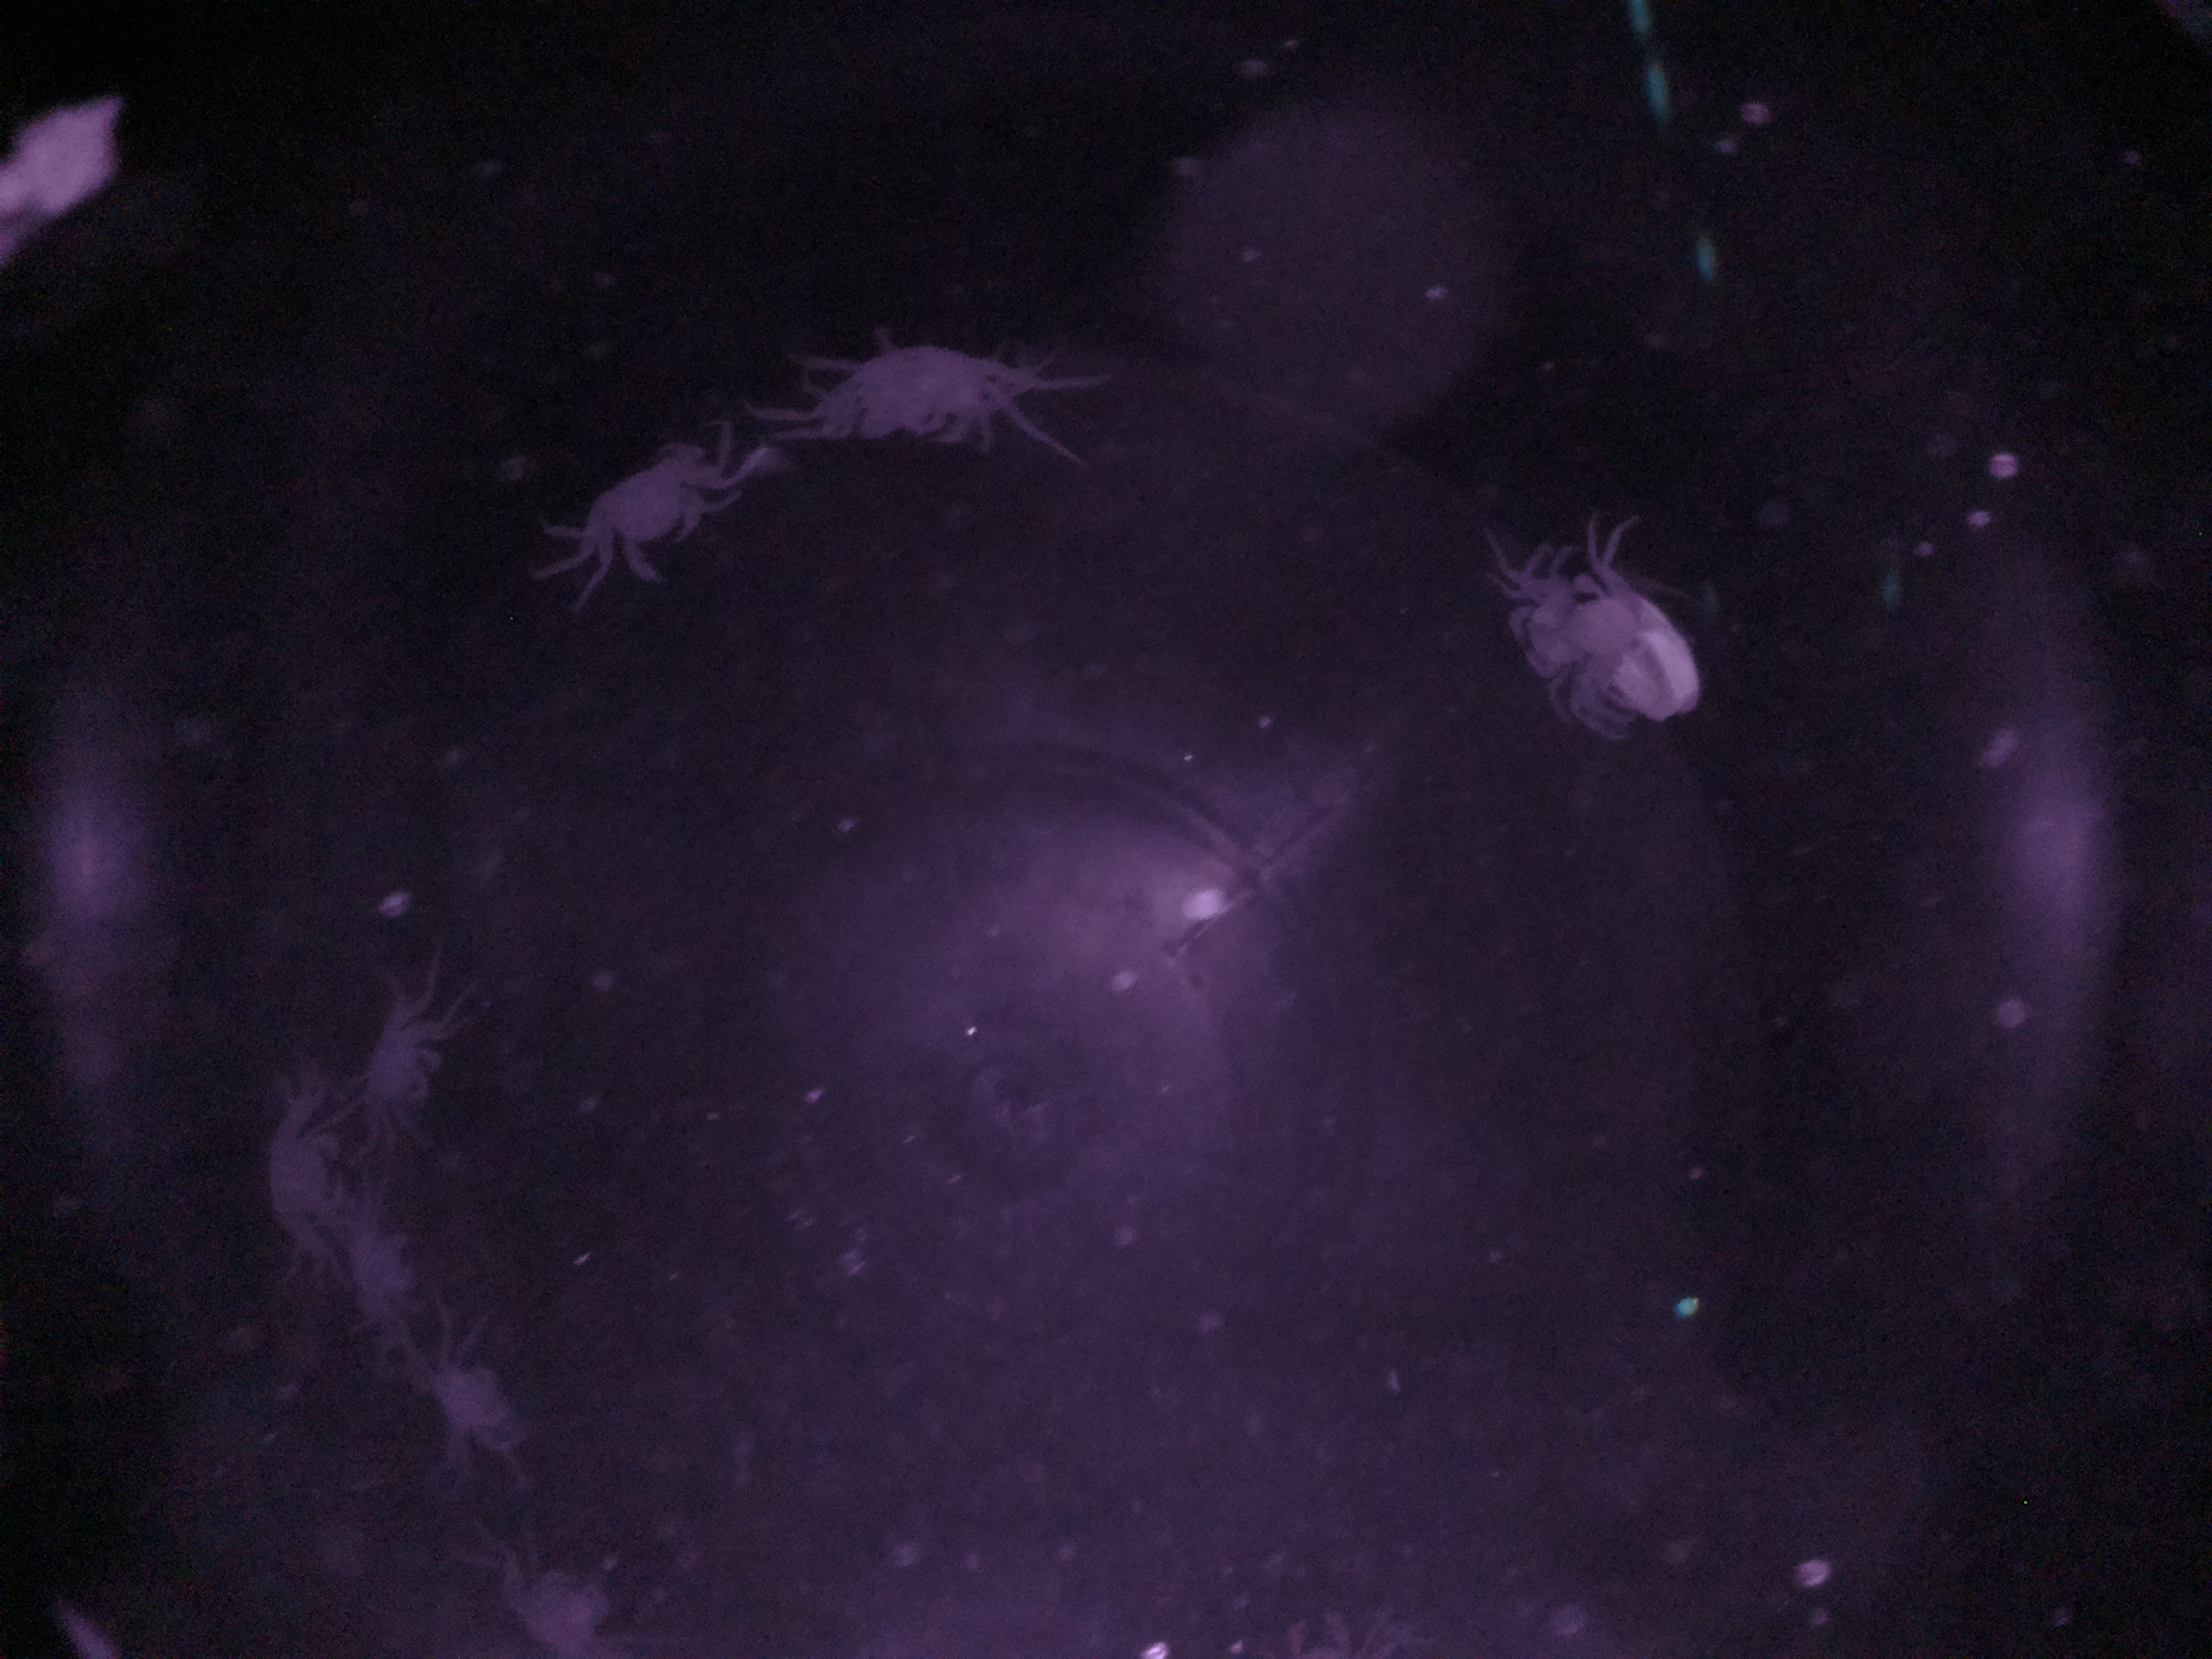Crab: (577, 434, 745, 612)
